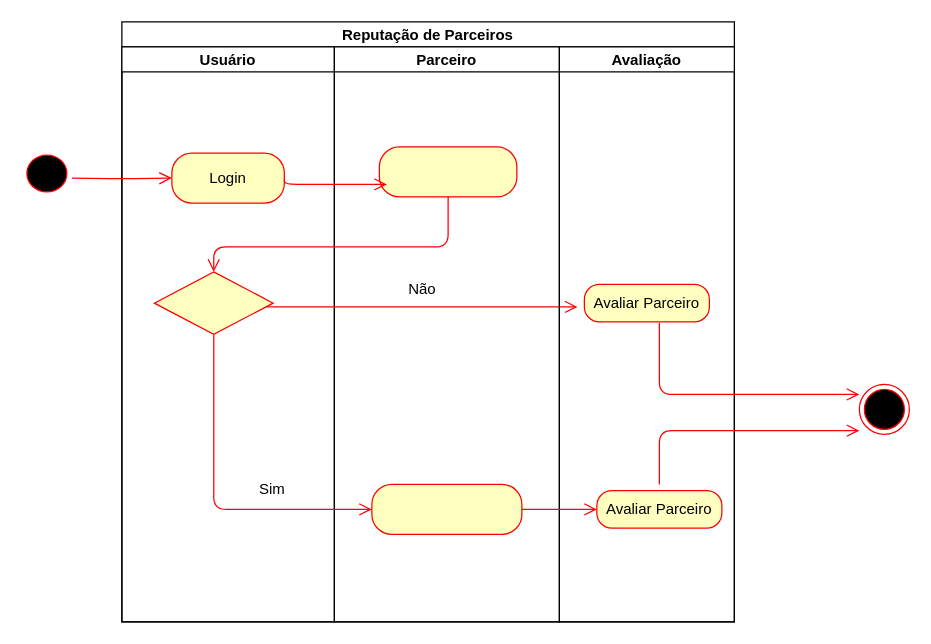
The diagram is 931 pixels wide and 644 high, and some of its shapes have lost their labels. The centre of each missing label's shape, as x and y in pixels:
"Conversar com Parceiro" belongs at [447,171].
"Escolheu o parceiro?" belongs at [213,302].
"Fazer descarte do lixo eletrônico" belongs at [446,508].
